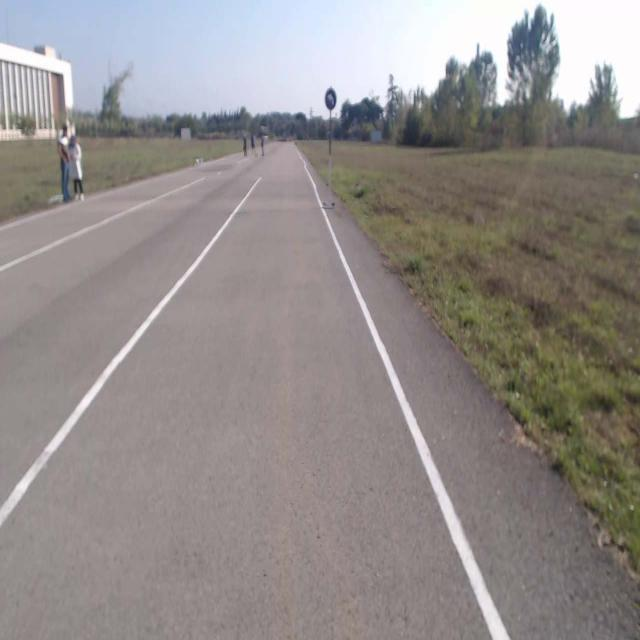sol: (324, 88, 336, 109)
